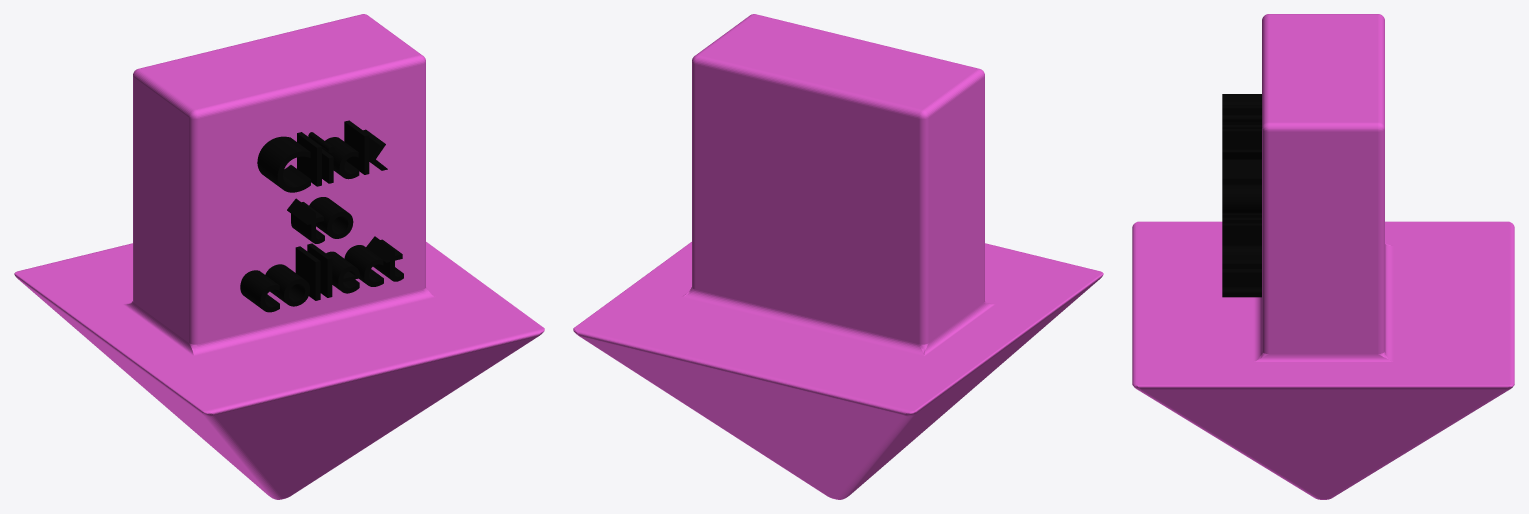
File: ClickToCollectArrow.fbx
The picture shows the model from 3 angles, left to right: view 1: azimuth 30°, elevation 25°; view 2: azimuth 150°, elevation 25°; view 3: azimuth 270°, elevation 25°; orthographic projection.
Parts seen in each view (by area): view 1: Cube, Text; view 2: Cube; view 3: Cube, Text.
Boxes of the visible parts, x1=… form: Cube: x1=14, y1=14, x2=544, y2=499; Text: x1=240, y1=120, x2=403, y2=312; Cube: x1=573, y1=14, x2=1103, y2=499; Cube: x1=1132, y1=14, x2=1514, y2=499; Text: x1=1222, y1=94, x2=1261, y2=297.
Size of the model in its own units: 190 by 231 by 186.
